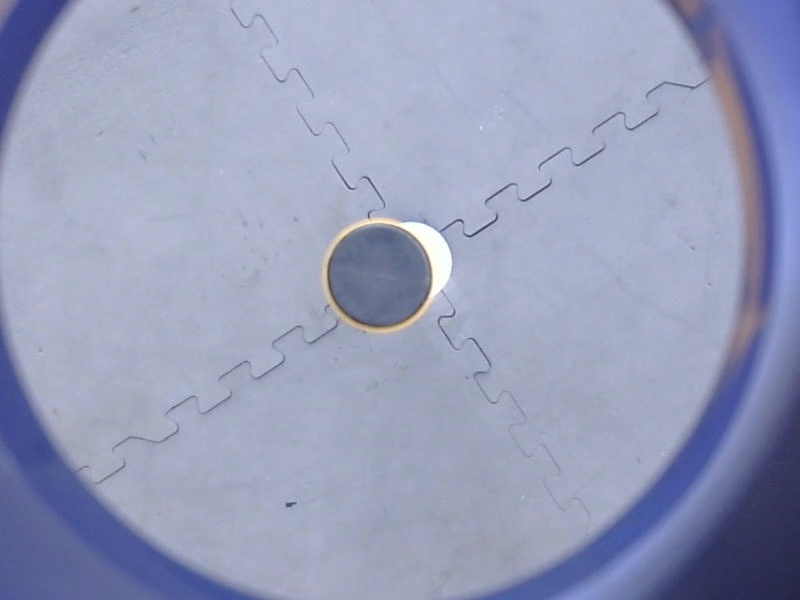tip: (317, 214, 441, 336)
